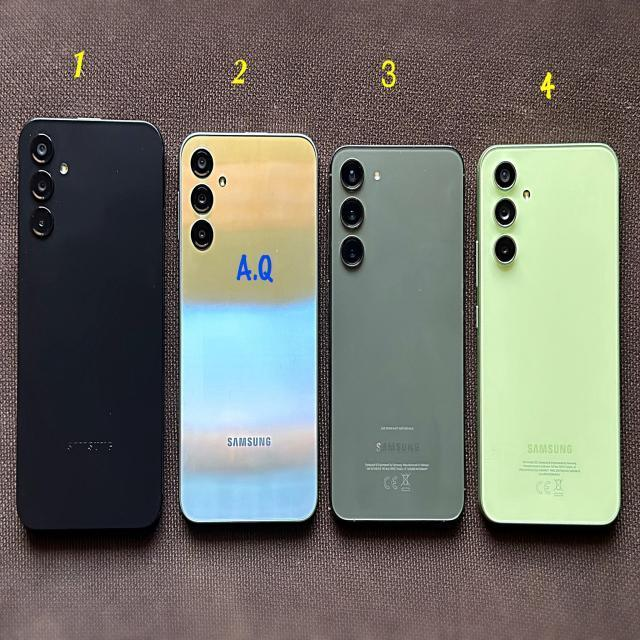phone: (18, 119, 166, 536), (476, 142, 623, 524), (180, 134, 319, 522), (332, 144, 466, 524)
